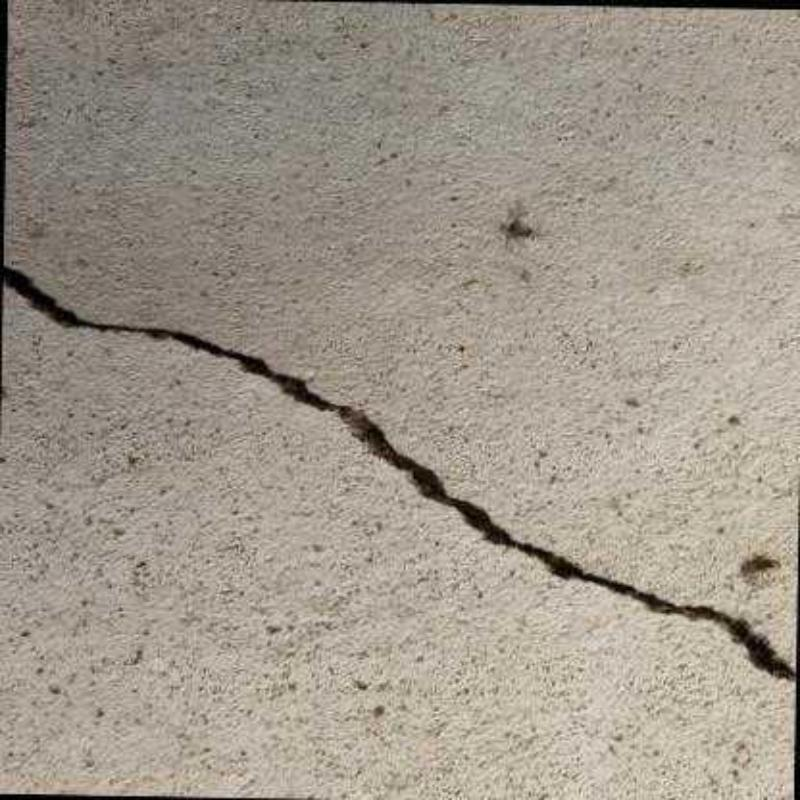pothole: (2, 264, 795, 683)
